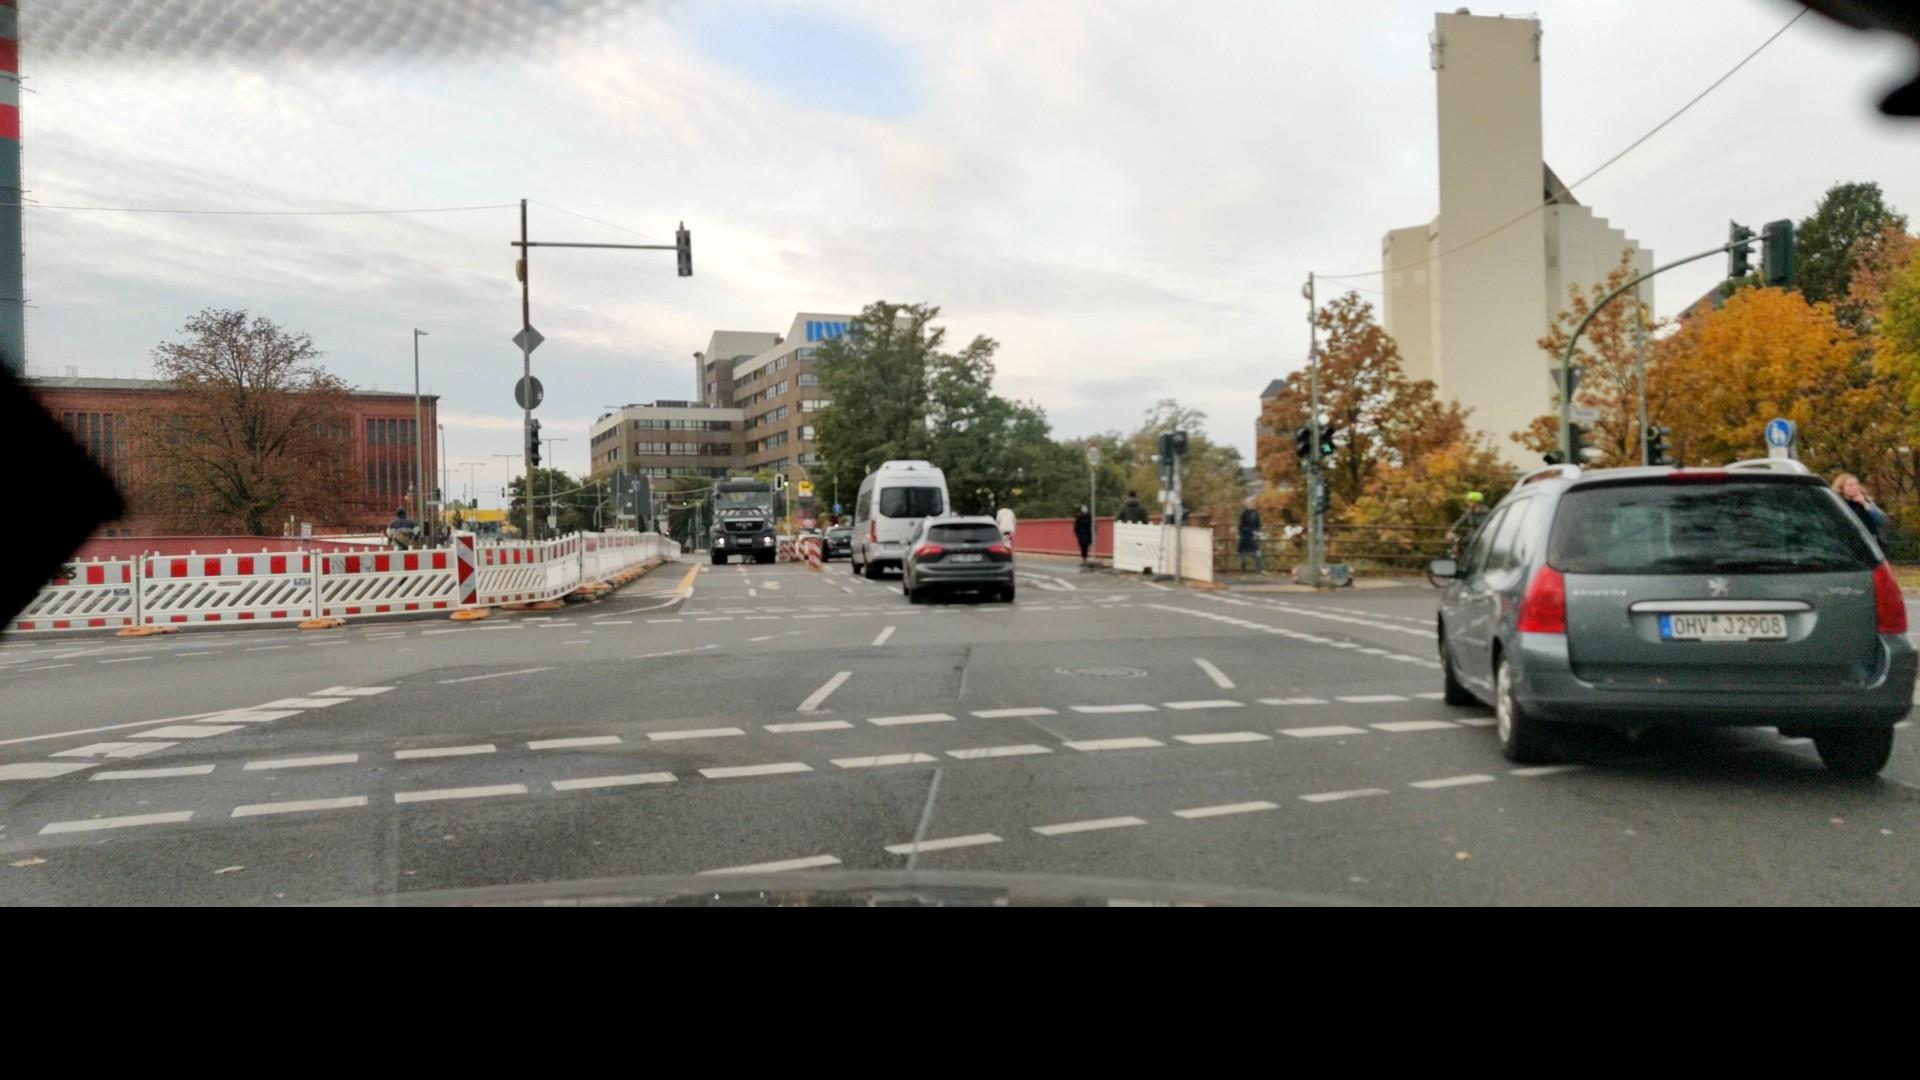Human face: (1837, 473, 1864, 500), (1245, 497, 1256, 510), (1080, 504, 1089, 515)
Vehicle registration plate: (1659, 612, 1787, 641), (951, 553, 983, 562), (882, 543, 908, 552)
